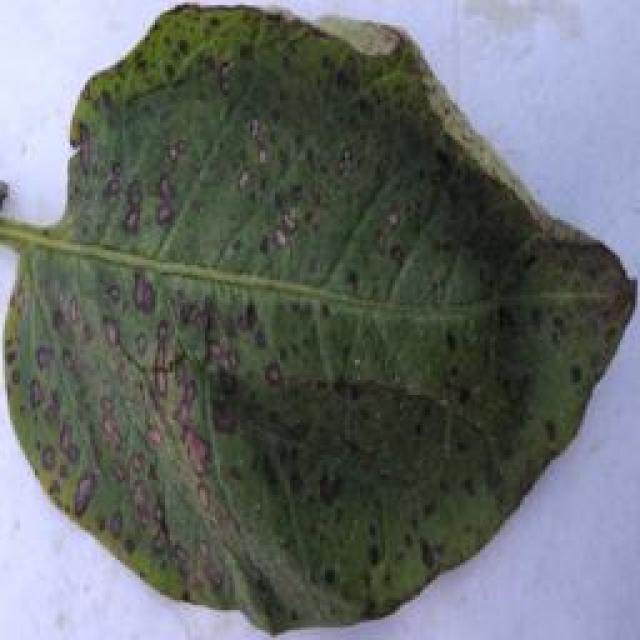Potato_Early_Blight: (3, 4, 630, 632)
